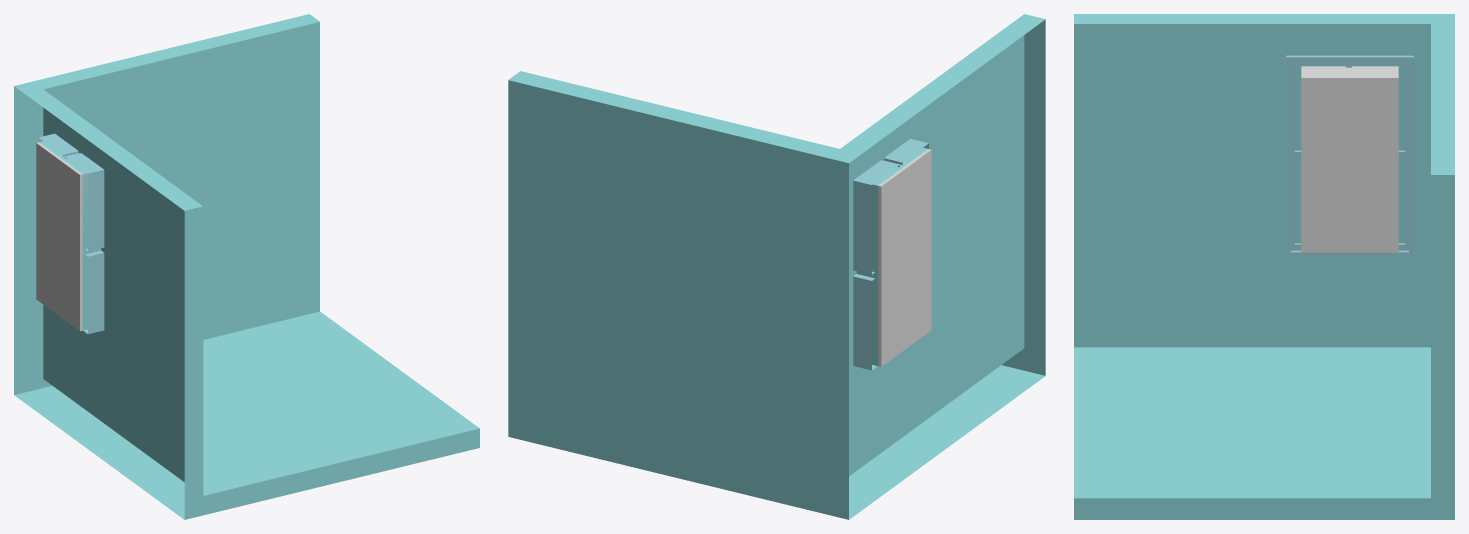
File: room.gltf
The picture shows the model from 3 angles, left to right: view 1: azimuth 30°, elevation 25°; view 2: azimuth 150°, elevation 25°; view 3: azimuth 270°, elevation 25°; orthographic projection. The views are drawn at different scales.
Parts seen in each view (by area): view 1: Plane, Cube, Plane.002; view 2: Plane, Cube, Plane.002; view 3: Plane, Cube, Plane.002.
Part boxes in pixels (x1,y1,x2,y2): Plane: (14, 14, 479, 519); Cube: (36, 142, 87, 331); Plane.002: (38, 133, 104, 334); Plane: (508, 14, 1045, 519); Cube: (878, 149, 931, 366); Plane.002: (853, 139, 928, 370); Plane: (1074, 14, 1454, 519); Cube: (1301, 66, 1398, 252); Plane.002: (1286, 55, 1413, 255).
Size of the model in its own units: 13.92 by 13.79 by 13.79.
